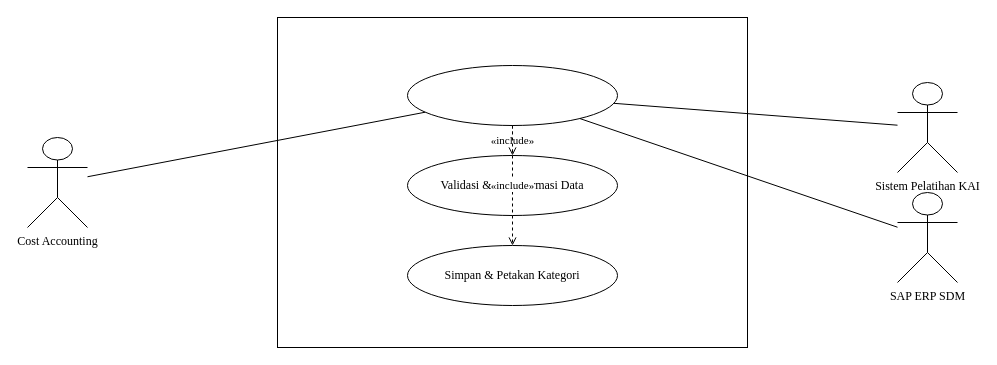
Some shapes in this 997 by 365 pixel diagram are drawn without their labels. The box of each missing label's shape, as (x1, y1, x2, y2) in pixels:
Modul Integrasi Sistem Pelatihan KAI: (276, 16, 748, 348)
Tarik Data Pelatihan & Kompetensi: (406, 64, 618, 126)
